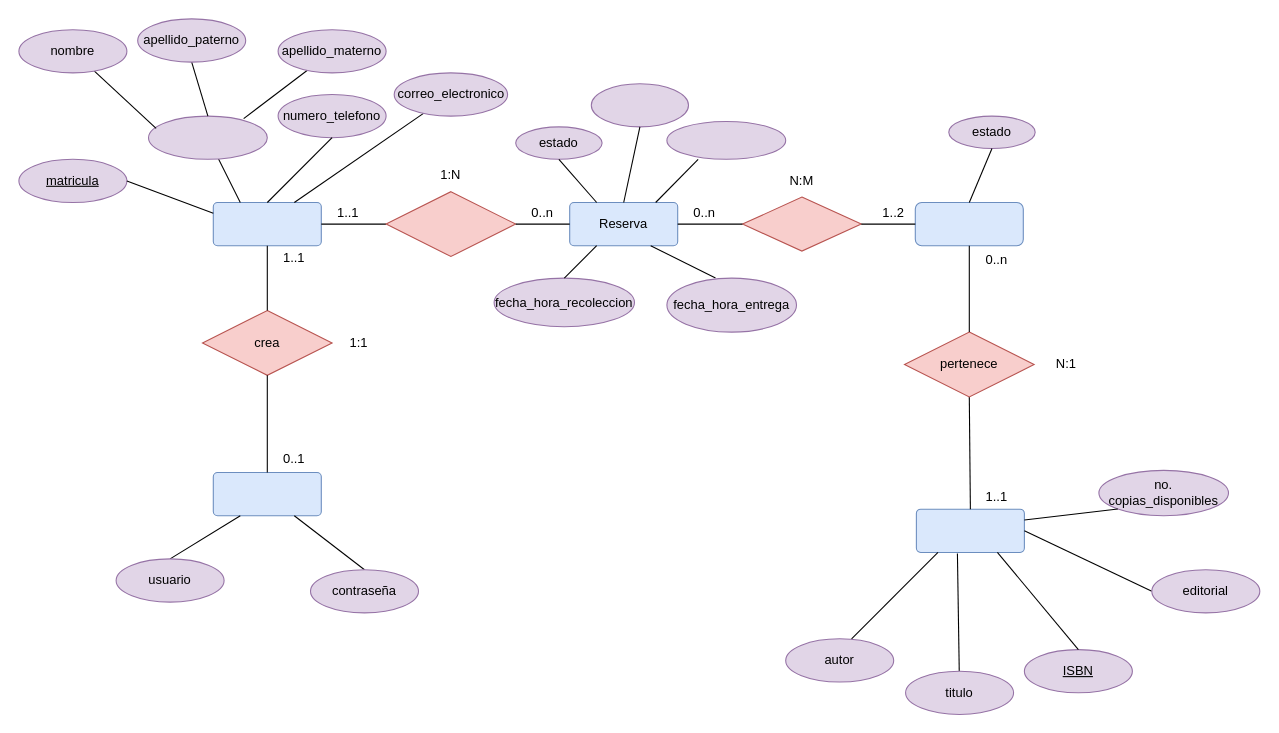
Some shapes in this 1279 by 733 pixel diagram are drawn without their labels. Each missing label, with the centre of its shape:
"copia" belongs at (x=968, y=223).
"Estudiante" belongs at (x=266, y=223).
"fecha_hora inicio" belongs at (x=639, y=105).
"fecha_hora_limite" belongs at (x=726, y=139).
"Libro" belongs at (x=969, y=530).
"nombre_completo" belongs at (x=207, y=137).
"Perfil" belongs at (x=266, y=493).
"realiza" belongs at (x=450, y=223).
"tiene" belongs at (x=801, y=223).
